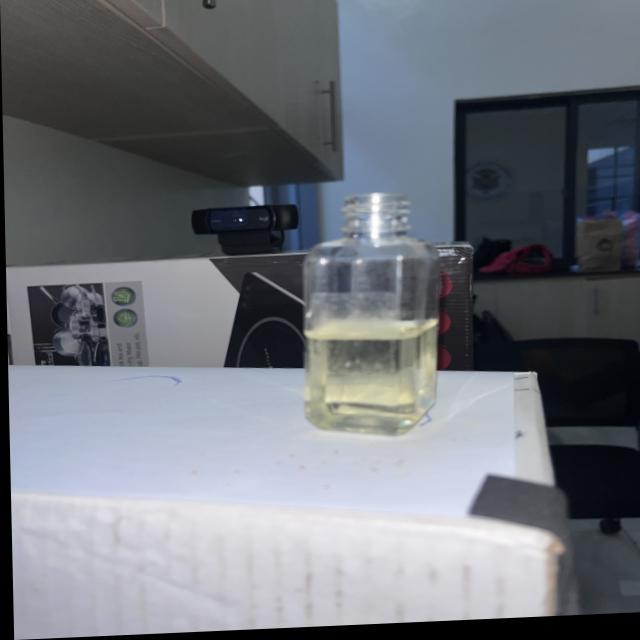oil: (302, 330, 432, 440)
